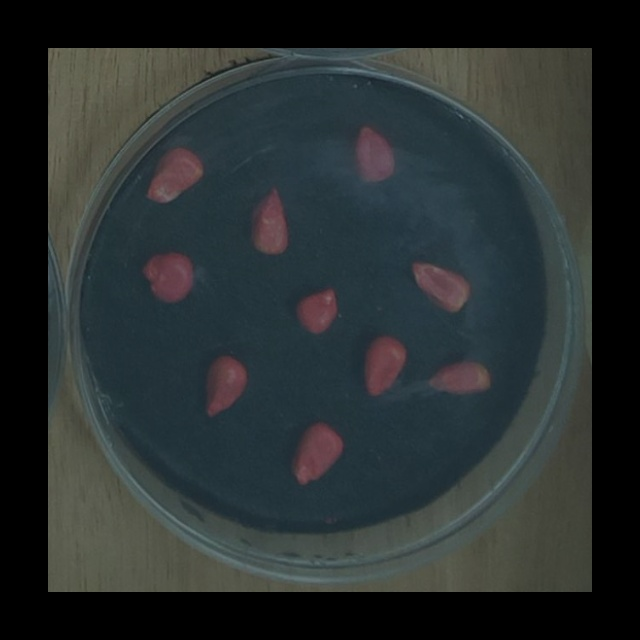Zea mays: (284, 416, 349, 491), (139, 141, 208, 209), (405, 253, 475, 320), (135, 245, 198, 310), (198, 348, 252, 422), (244, 180, 292, 261), (357, 329, 411, 400), (347, 119, 399, 187), (287, 282, 344, 341), (420, 354, 494, 399)
